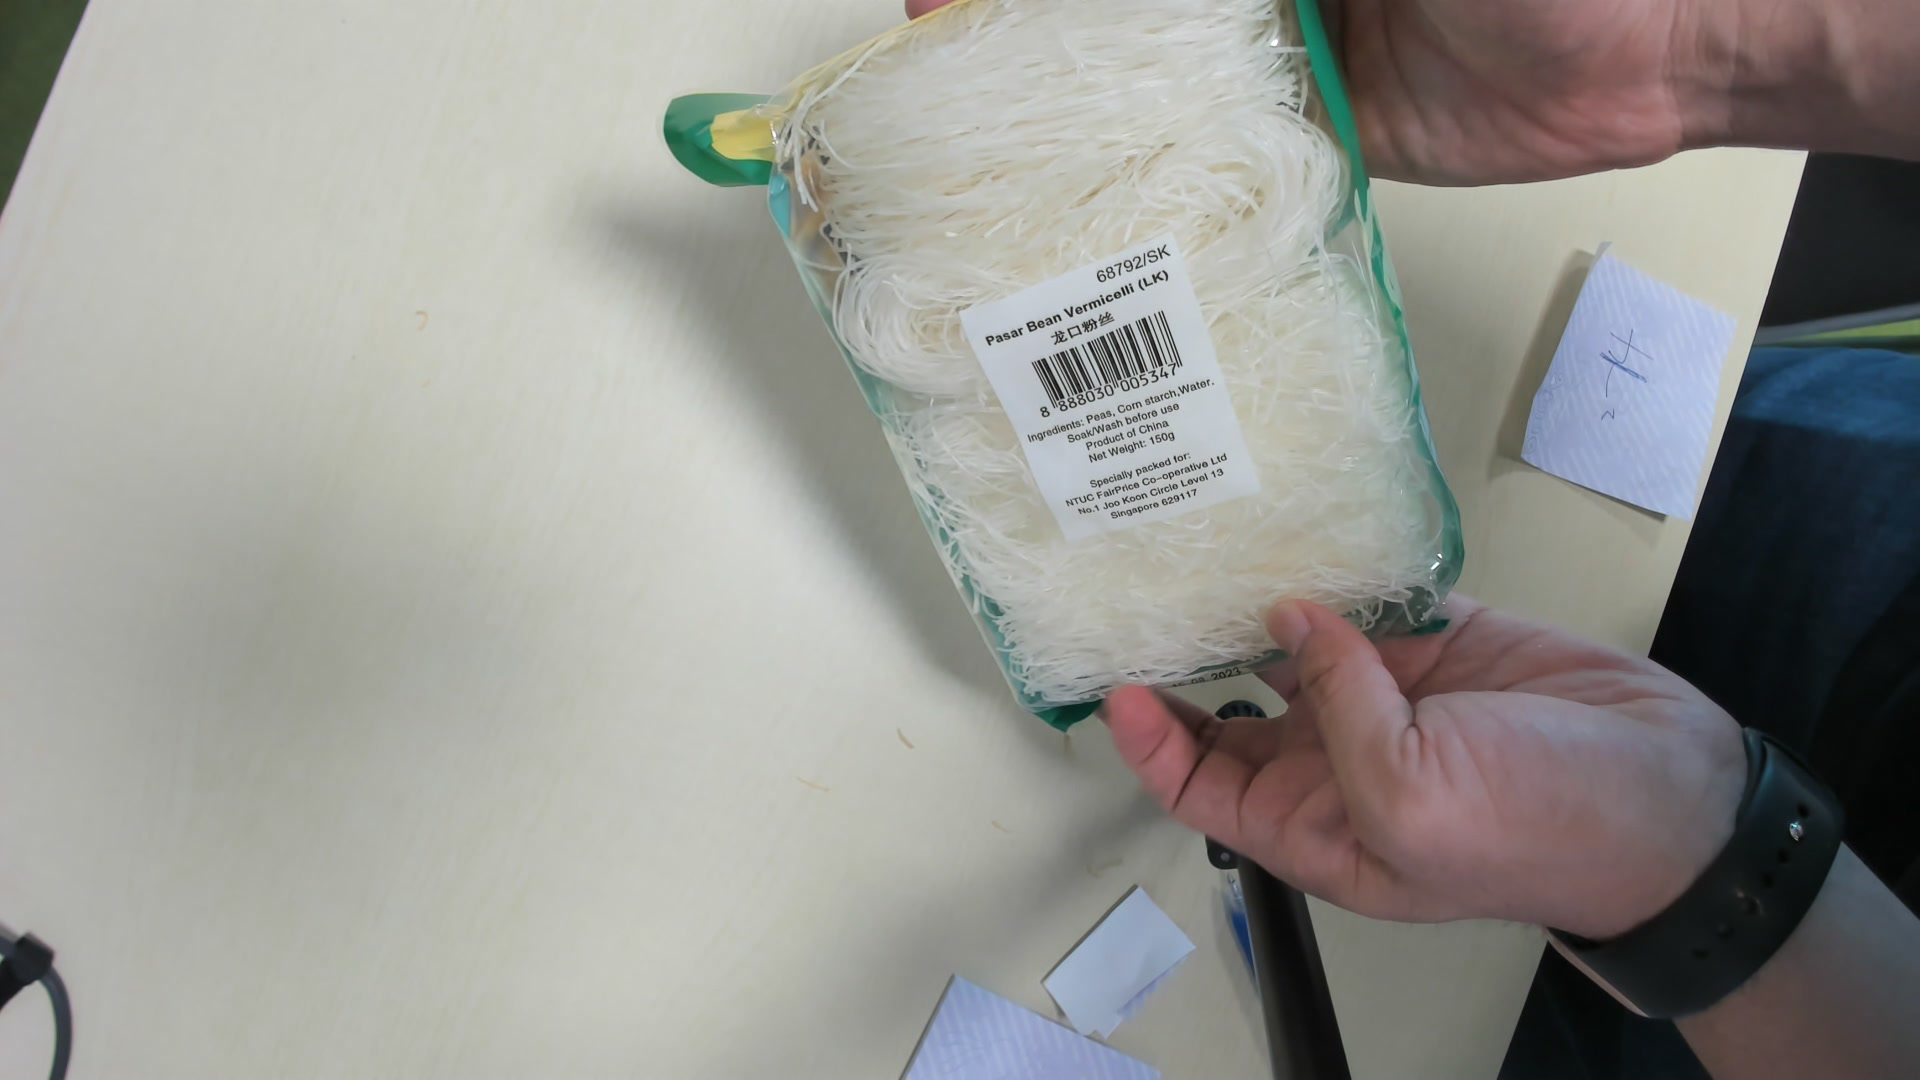BeeHoonVermicelli_100-199g_NonHalal_NonHealthy: (737, 7, 1466, 737)
